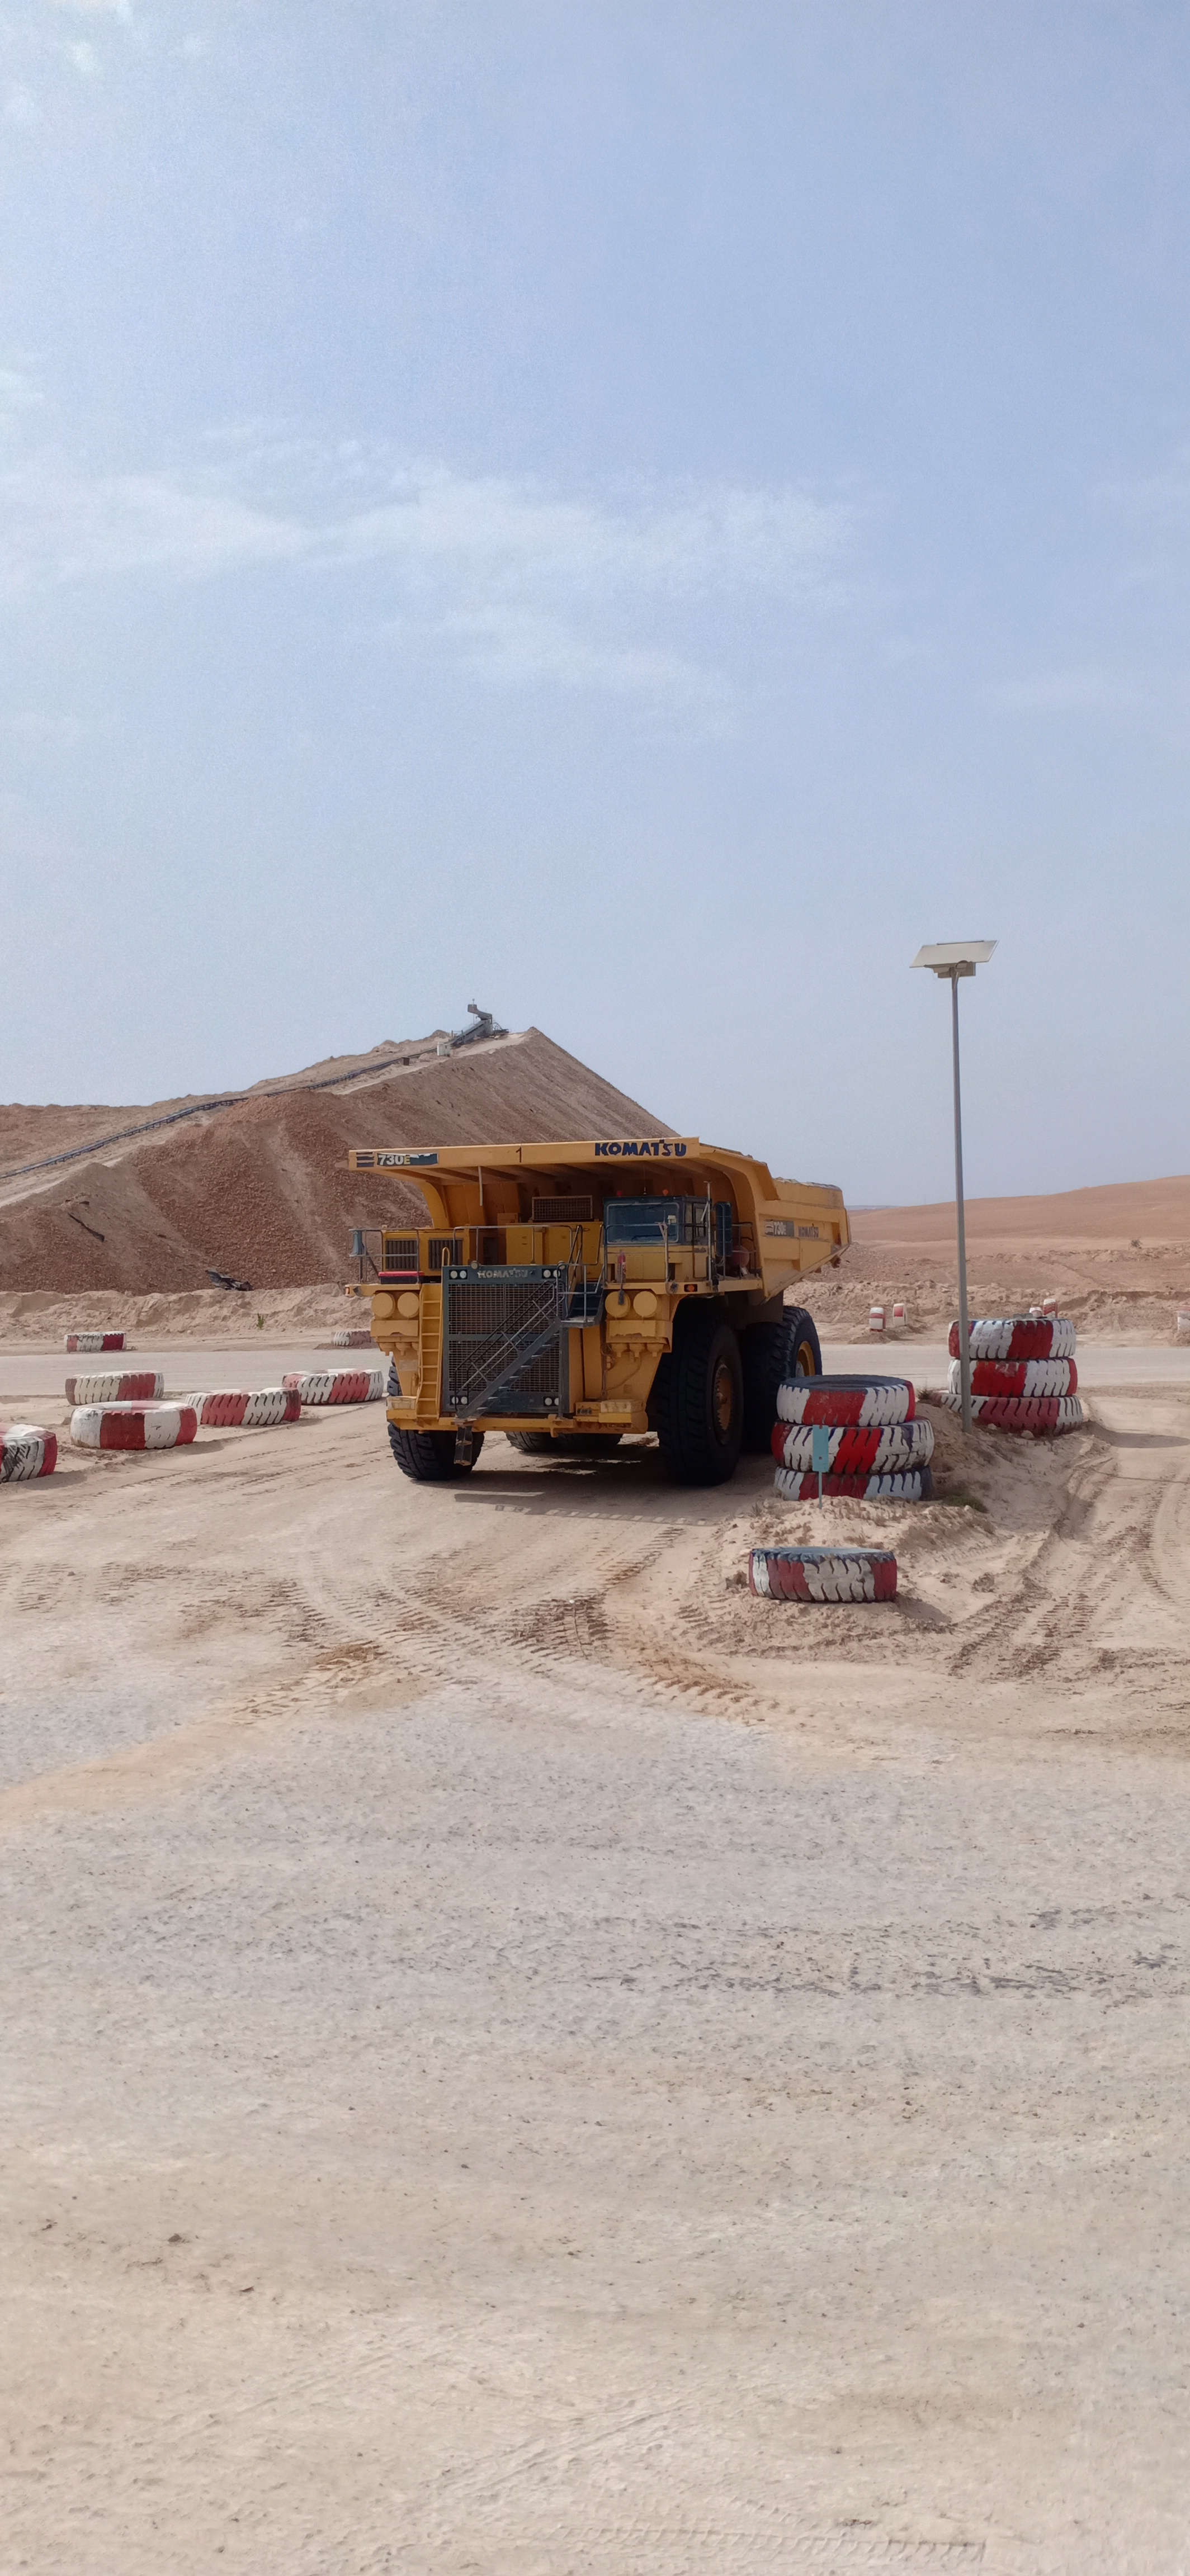camion: (347, 1127, 874, 1521)
